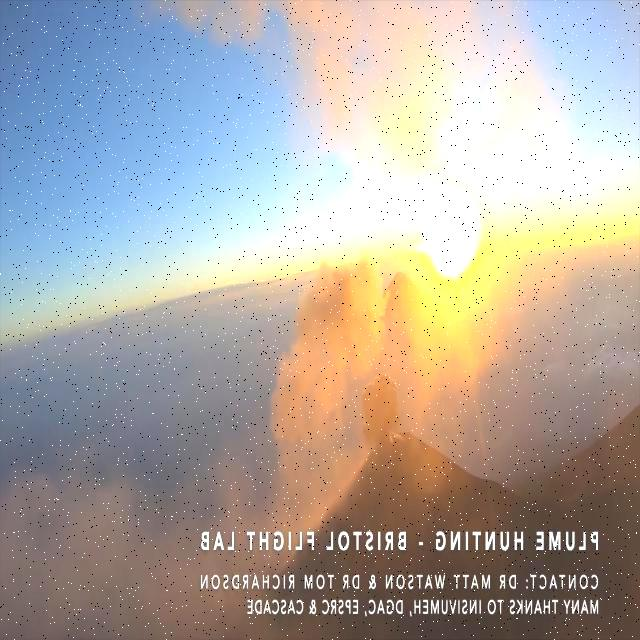Plume: (360, 374, 400, 446)
Summit: (292, 429, 528, 531)
